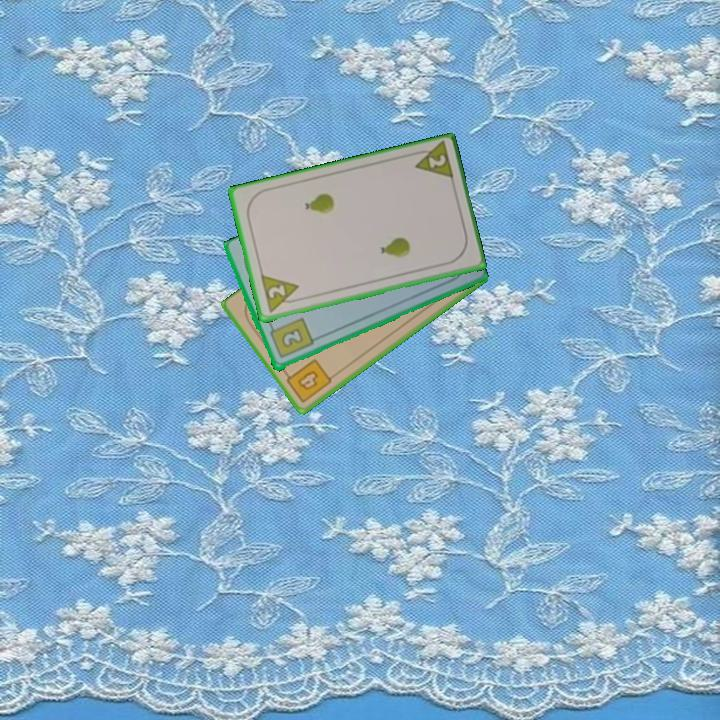2b: (266, 315, 316, 361)
2p: (408, 140, 456, 184), (257, 272, 304, 316)
4b: (280, 355, 335, 406)
